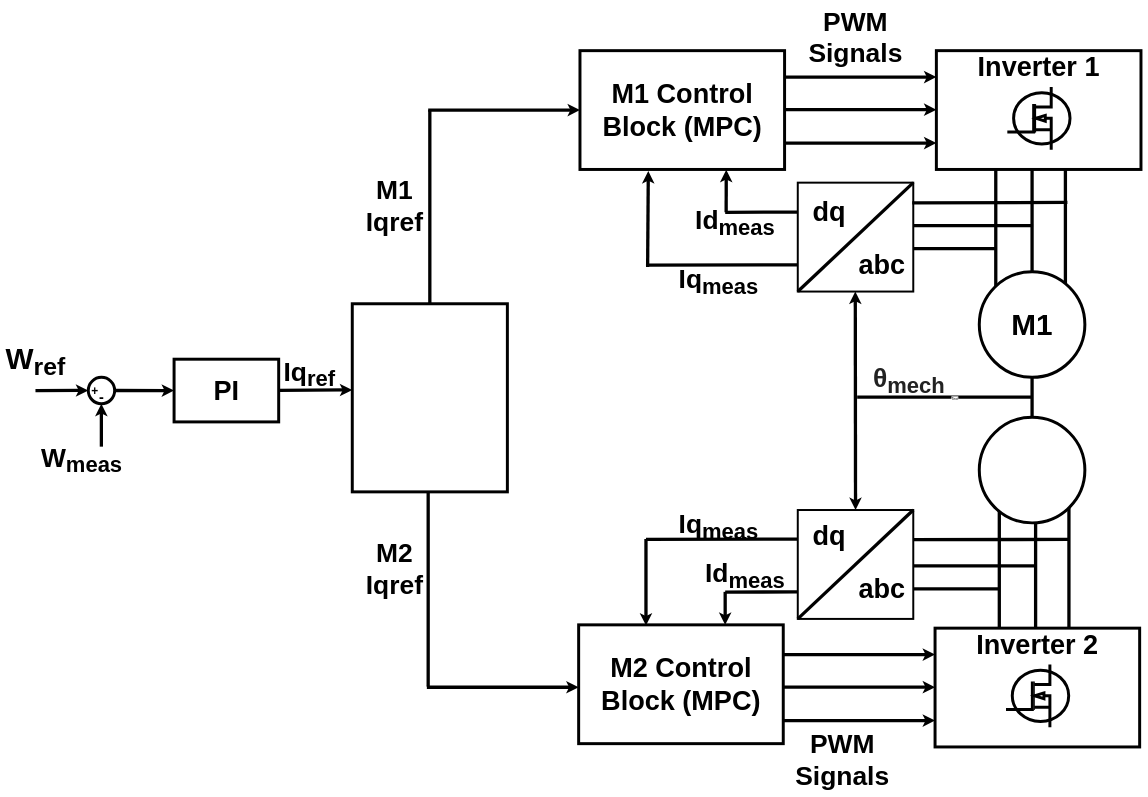
This 1148x797 diagram has some shape labels left out. The shapes that lost their labels are listed below. From the top down, each one's centre as x and y in pixels, then its label:
At [430,397]: "Torque Distributor".
At [1032,470]: "M2".
